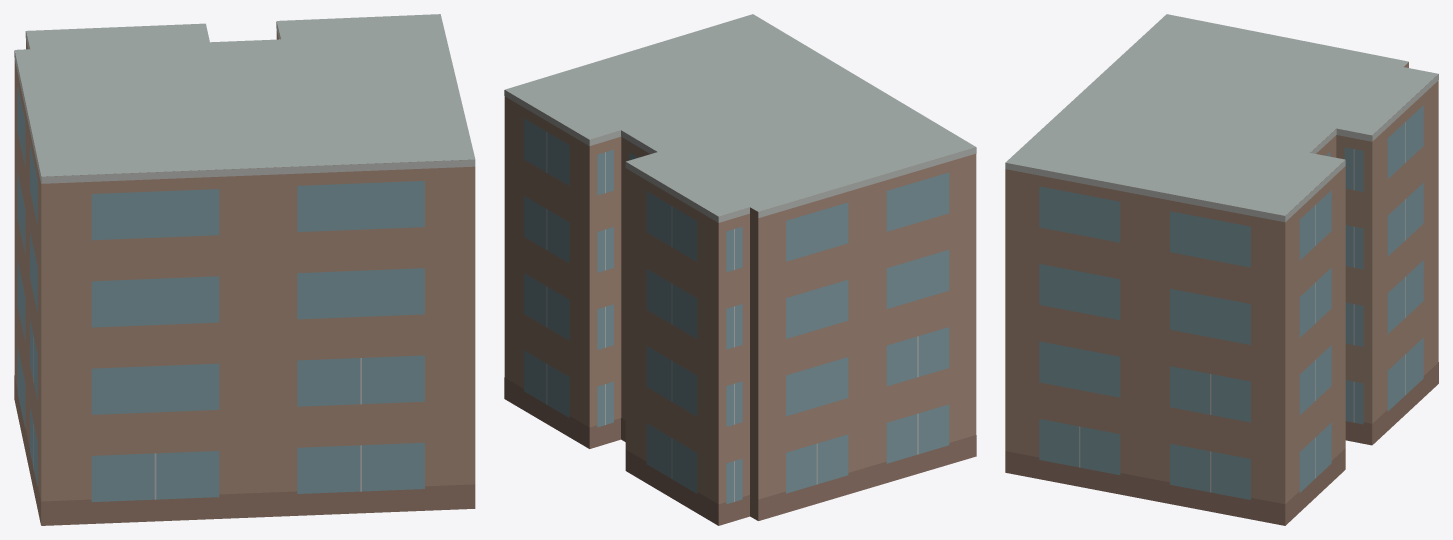
Rendered from survey-upis-32670119.glb.
3 views of the same model, side by side, from view 1: azimuth 30°, elevation 25°; view 2: azimuth 150°, elevation 25°; view 3: azimuth 270°, elevation 25° (orthographic). The views are drawn at different scales.
Parts seen in each view (by area): view 1: survey-upis-32670119.tmp; view 2: survey-upis-32670119.tmp; view 3: survey-upis-32670119.tmp.
Part boxes in pixels (x1=…): survey-upis-32670119.tmp: x1=14, y1=14, x2=475, y2=525; survey-upis-32670119.tmp: x1=504, y1=14, x2=976, y2=525; survey-upis-32670119.tmp: x1=1005, y1=14, x2=1438, y2=525.
Size of the model in its own units: 16.57 by 11.85 by 15.03.
